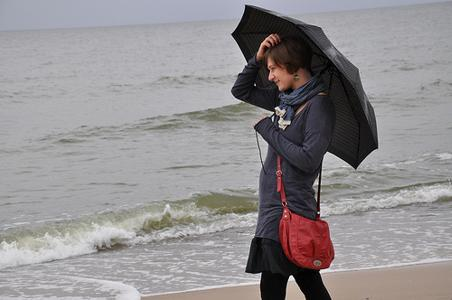person: (232, 33, 333, 300)
